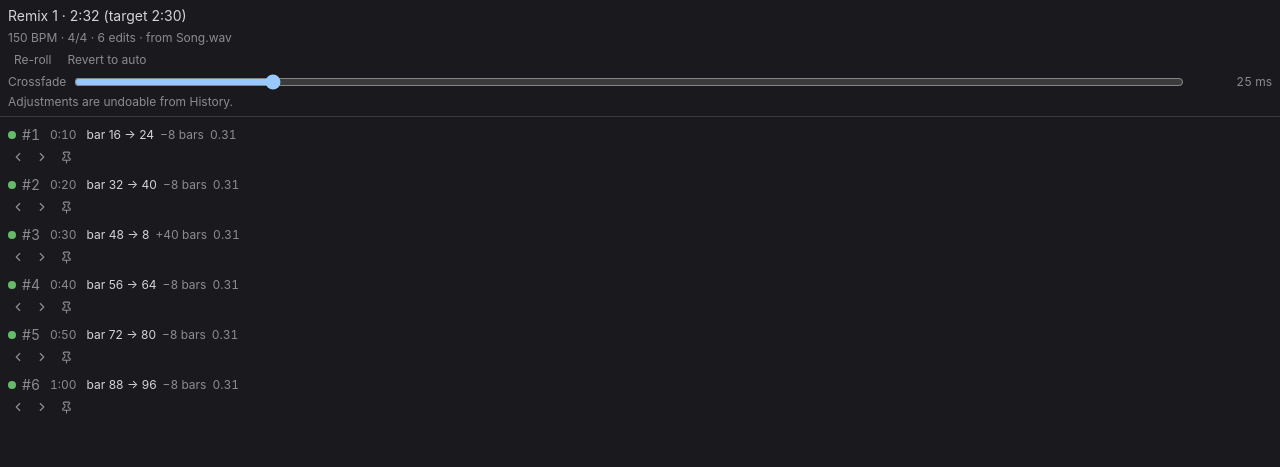
Scenario: RemixPanel — header actions (acceptance 9) › updates the effective readout live while dragging, before the release commits
The image size is (1280, 467).
Set the slider with test id "remix-crossfade" to "120" at (1176,82), box [74,74,1184,90]
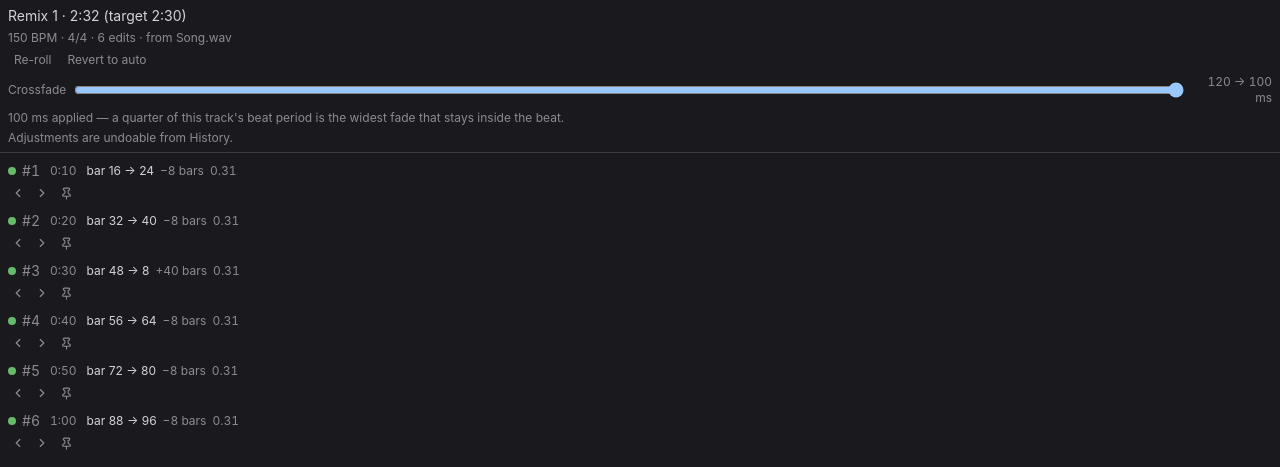
Result: the text with test id "remix-crossfade-readout" reads "120 → 100 ms" at [1207,74,1272,105]
